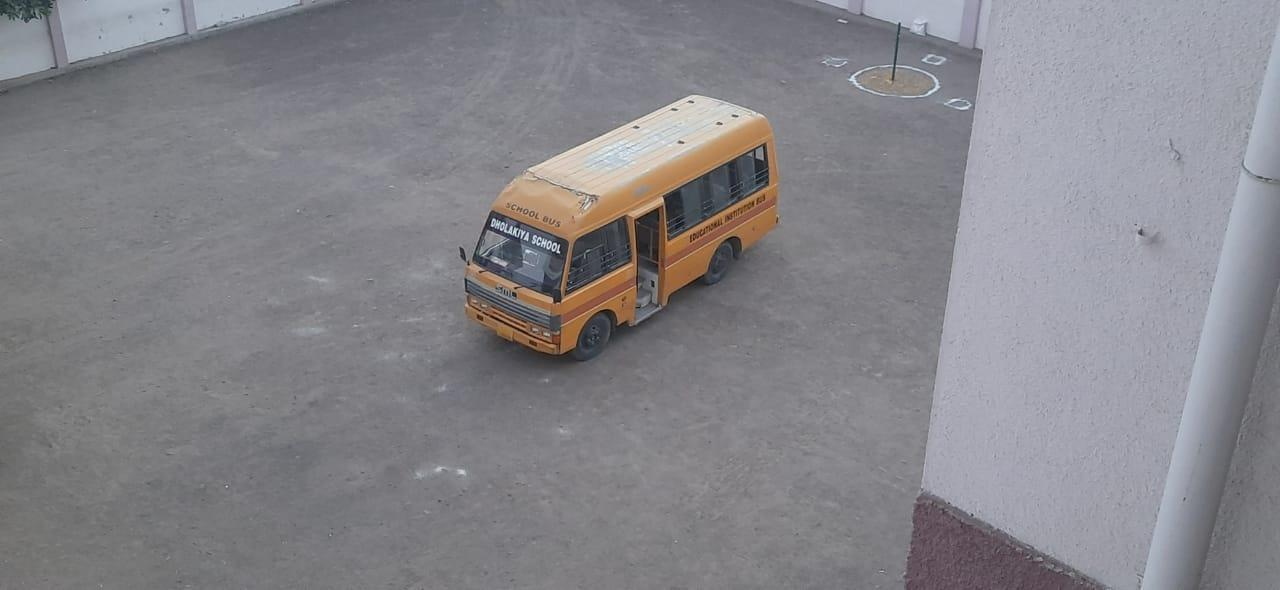Bus: (449, 86, 798, 376)
